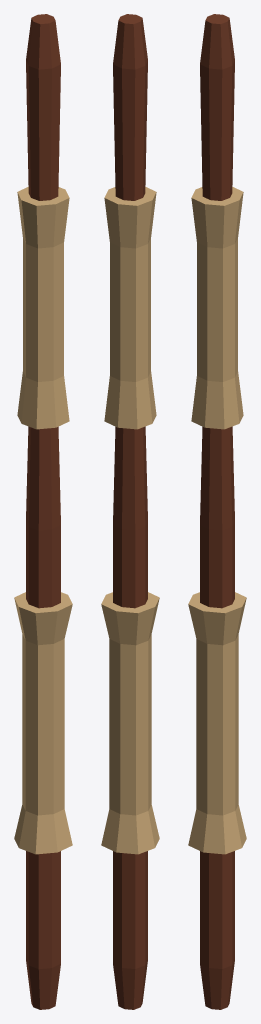
Rendered from Staff.fbx.
The picture shows the model from 3 angles, left to right: view 1: azimuth 30°, elevation 25°; view 2: azimuth 150°, elevation 25°; view 3: azimuth 330°, elevation 25°; orthographic projection.
Visible parts, largest first — view 1: Staff; view 2: Staff; view 3: Staff.
Part boxes in pixels (box(x1,y1,x2,y2)): Staff: box(14, 14, 72, 1009); Staff: box(101, 14, 159, 1009); Staff: box(188, 14, 246, 1009).
Bounding box in the file's own units: 13.1 × 250 × 13.1.
